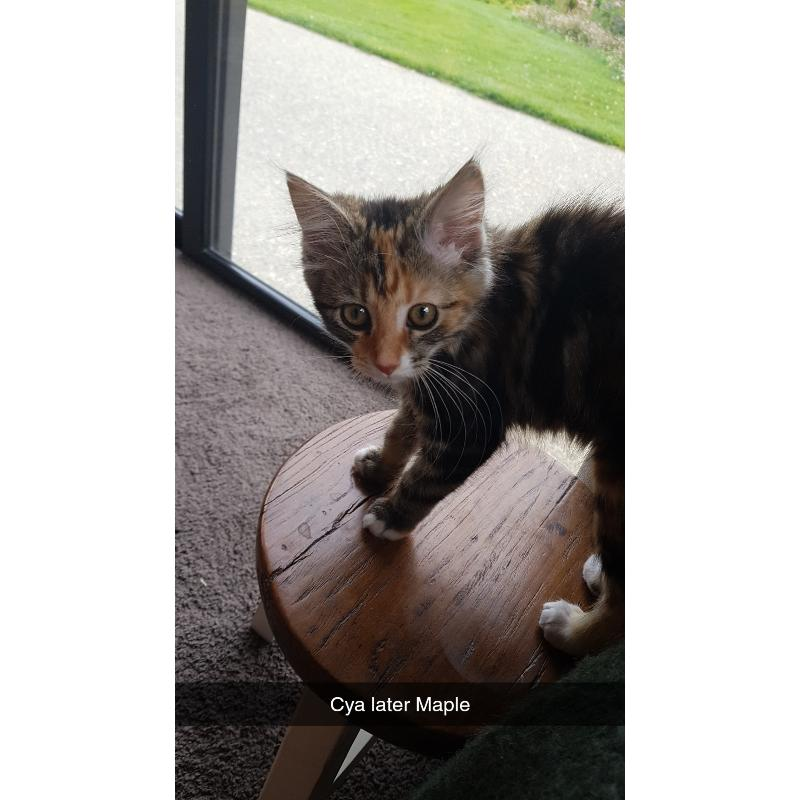red: (277, 153, 624, 646)
